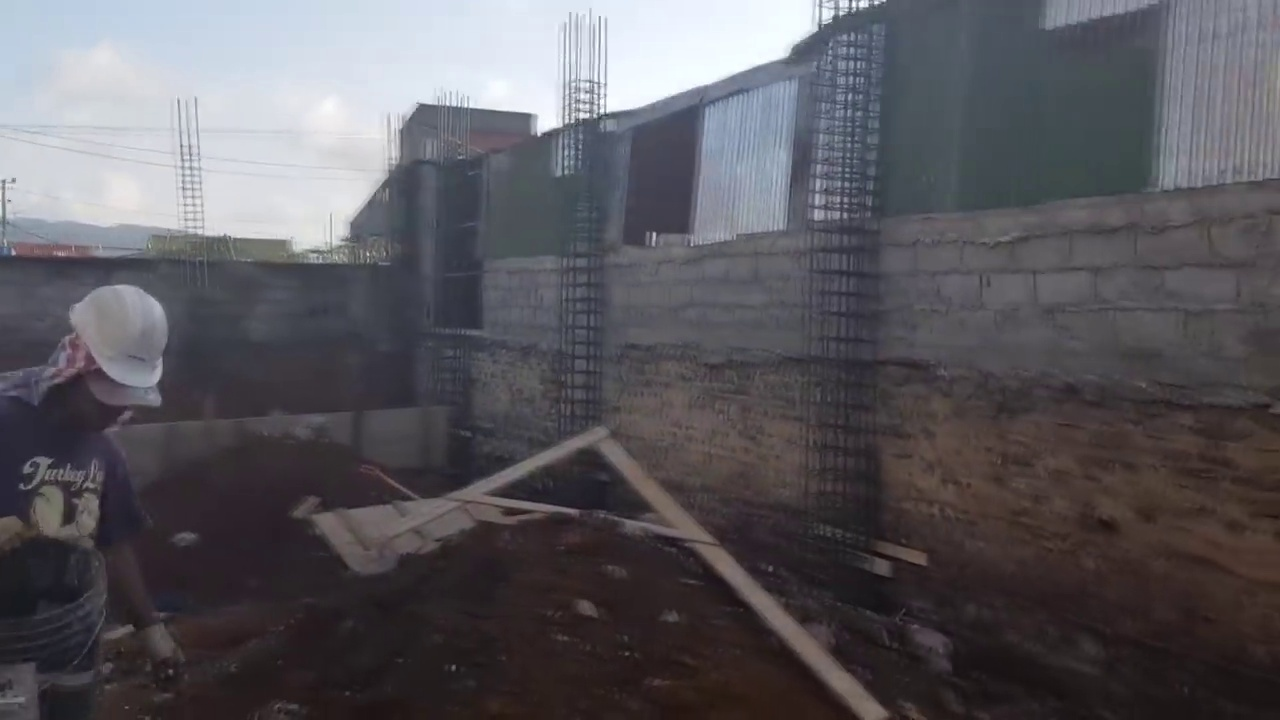helmet: (55, 289, 161, 383)
helmet-on: (27, 282, 177, 440)
person: (3, 284, 175, 698)
